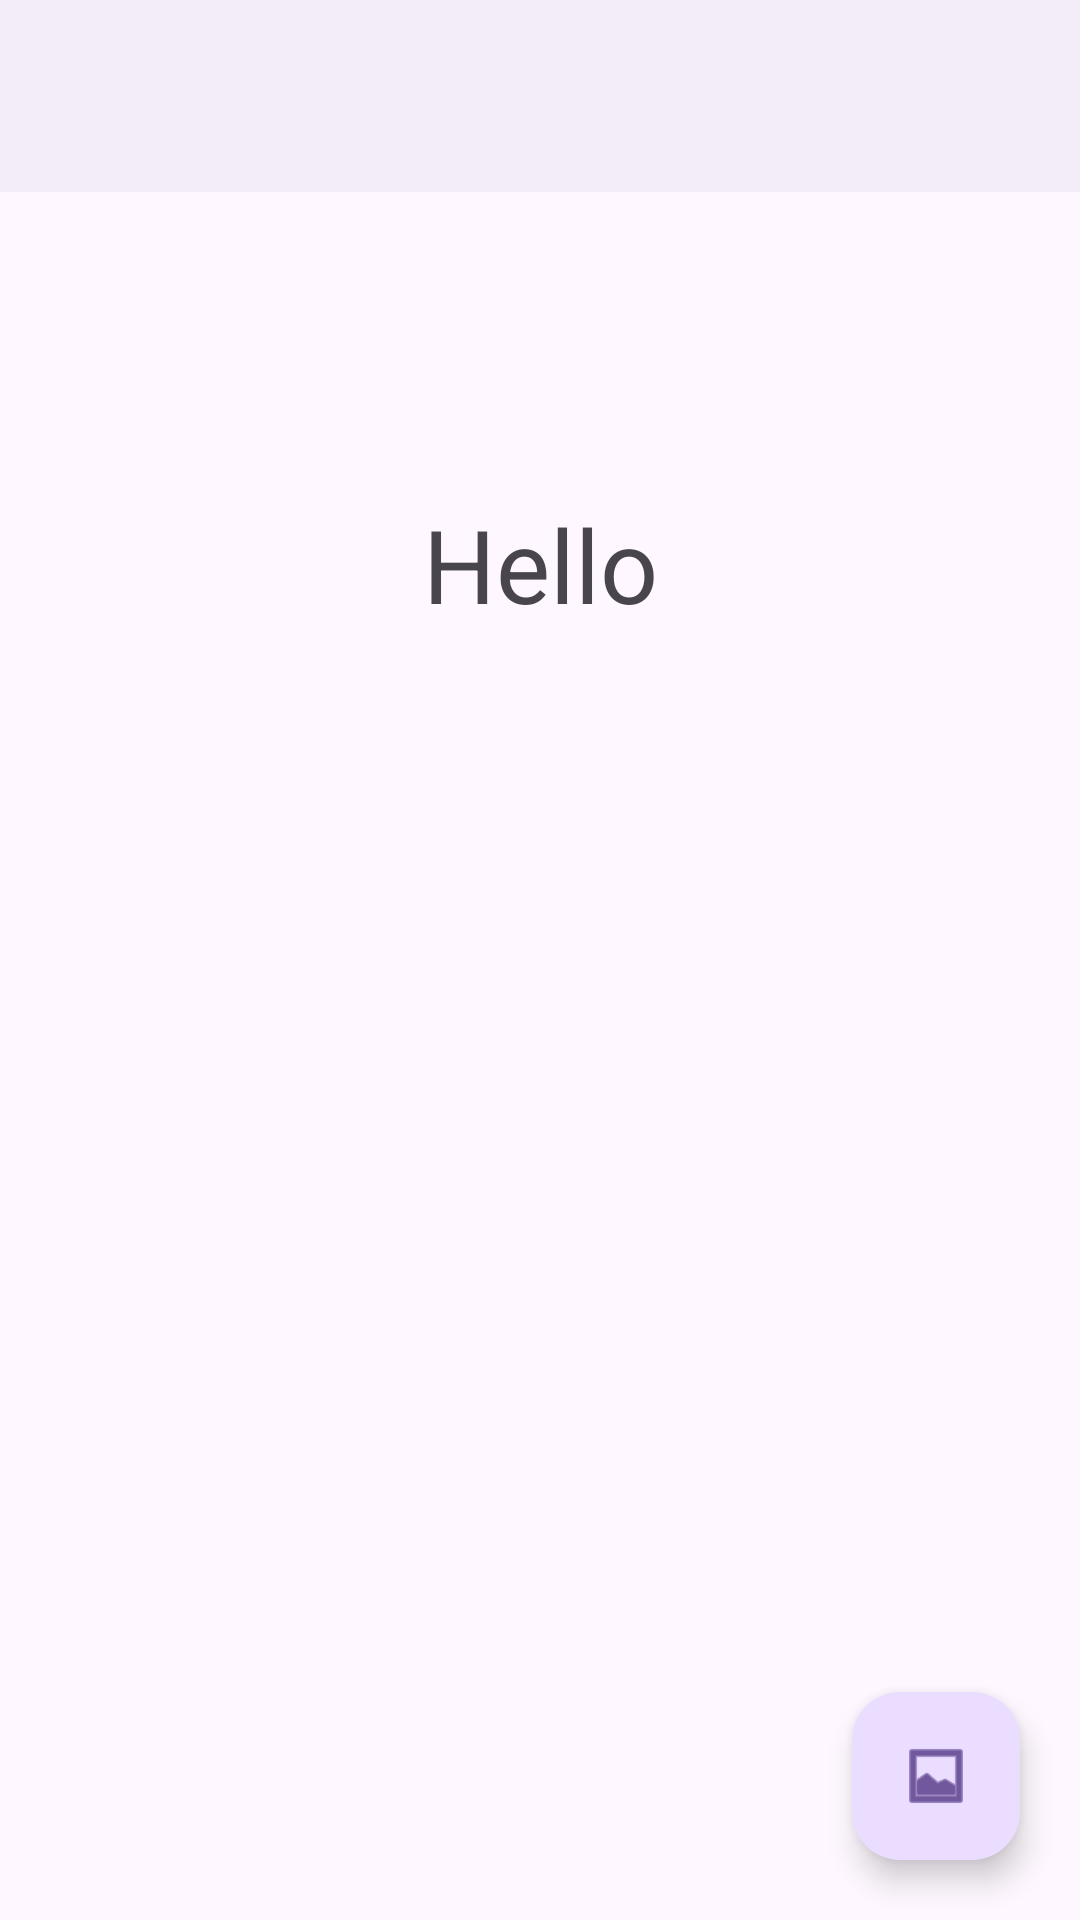

Named icons in this screenshot (1080*1920) and their centers, (x,y):
Select an Image: (936,1776)
